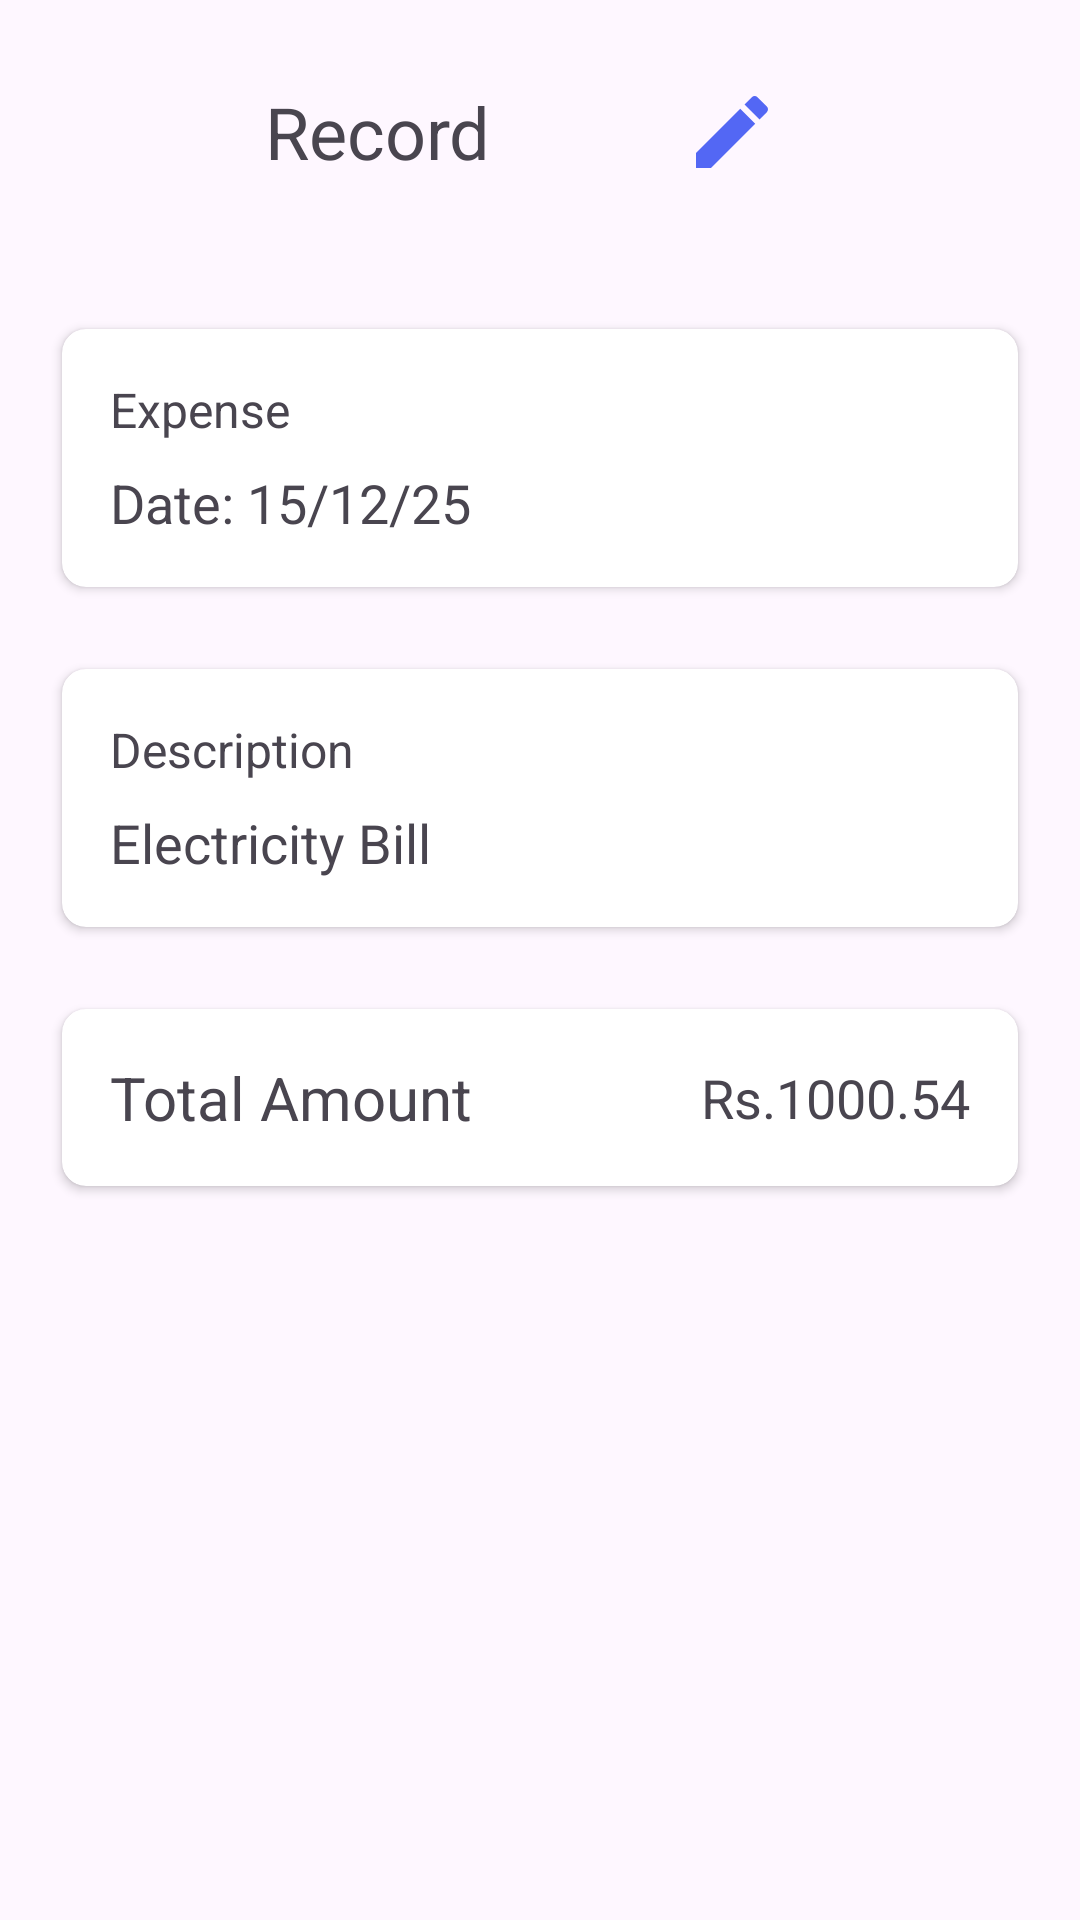

Where to tap for icons on this 1080w x 1920h app screen, as (x=x, y=y):
edit: (x=732, y=132)
